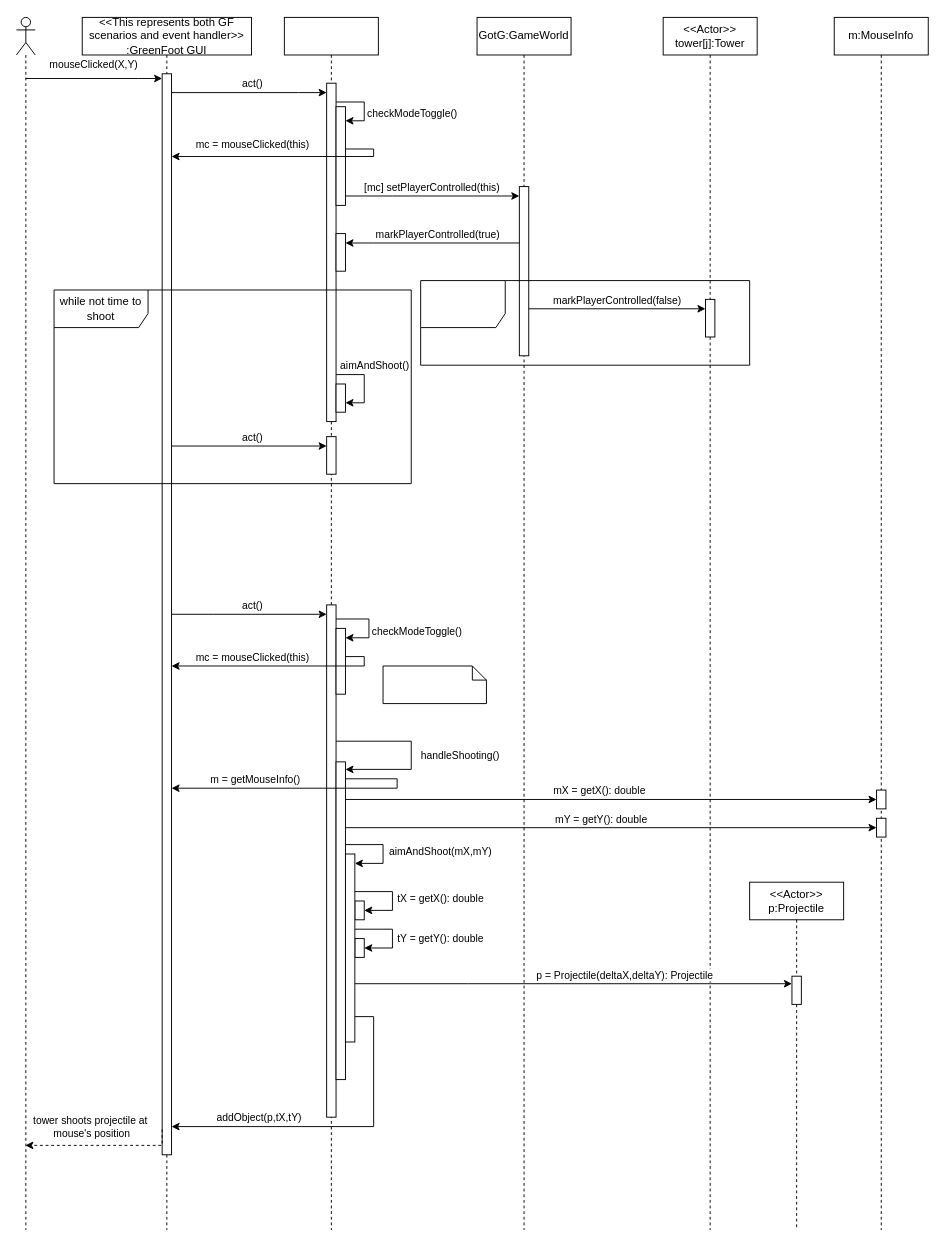
Image size: 945x1246. Some labels were removed from this diagram. The centre of each missing label's shape, as x and y in pixels:
<<Actor>> tower[i]:Tower: (330,623)
Assume mc is false: (434,684)
foreach tower[j] where j !=i: (585,322)
